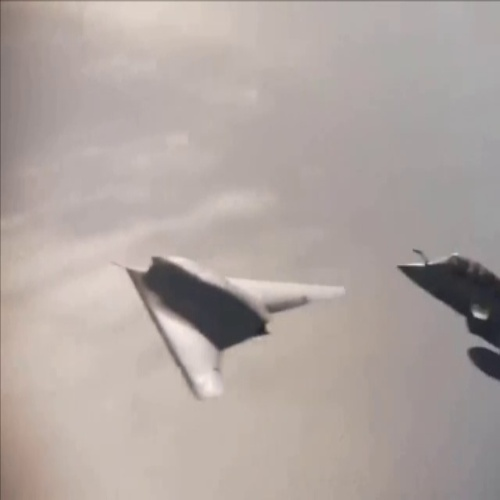uav907: (104, 249, 346, 404)
